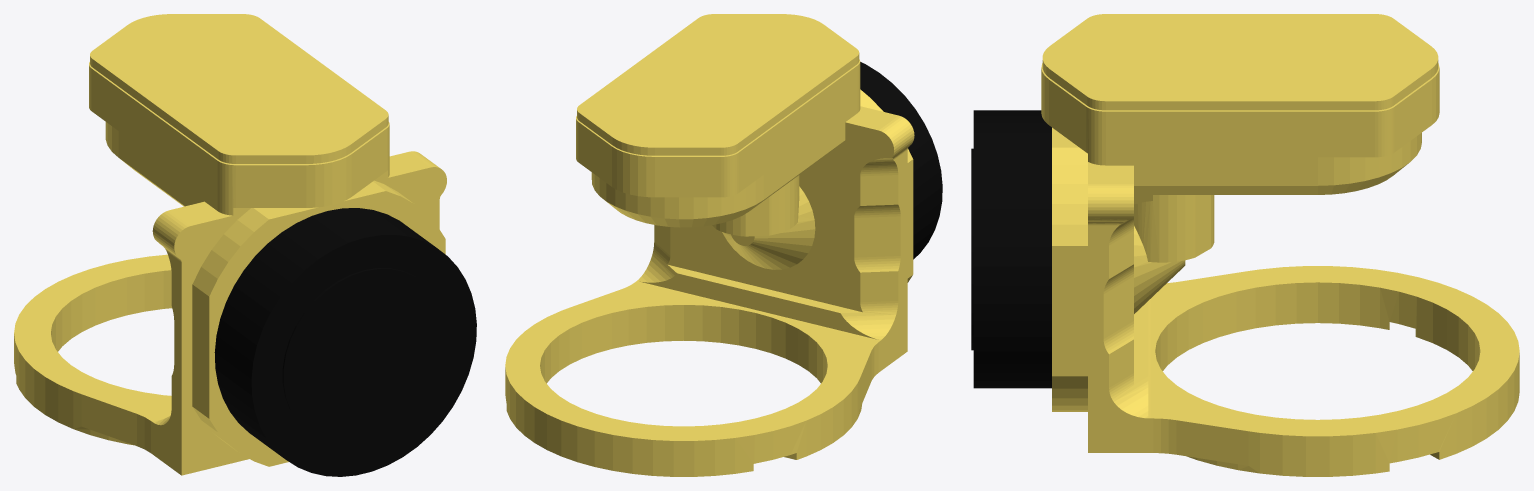
3 renders of one model, left to right at view 1: azimuth 30°, elevation 25°; view 2: azimuth 150°, elevation 25°; view 3: azimuth 270°, elevation 25°, orthographic. The views are drawn at different scales.
Parts seen in each view (by area): view 1: /Link5/Link5_003-mesh/0, /Link5/Link5_003-mesh/1; view 2: /Link5/Link5_003-mesh/0, /Link5/Link5_003-mesh/1; view 3: /Link5/Link5_003-mesh/0, /Link5/Link5_003-mesh/1.
Part boxes in pixels (bbox=[...]): /Link5/Link5_003-mesh/0: bbox=[14, 14, 446, 475]; /Link5/Link5_003-mesh/1: bbox=[214, 208, 476, 476]; /Link5/Link5_003-mesh/0: bbox=[505, 14, 914, 476]; /Link5/Link5_003-mesh/1: bbox=[860, 62, 942, 259]; /Link5/Link5_003-mesh/0: bbox=[1041, 14, 1519, 476]; /Link5/Link5_003-mesh/1: bbox=[971, 110, 1051, 388].
Bounding box in the file's own units: 0.1797 × 0.1644 × 0.2445.
